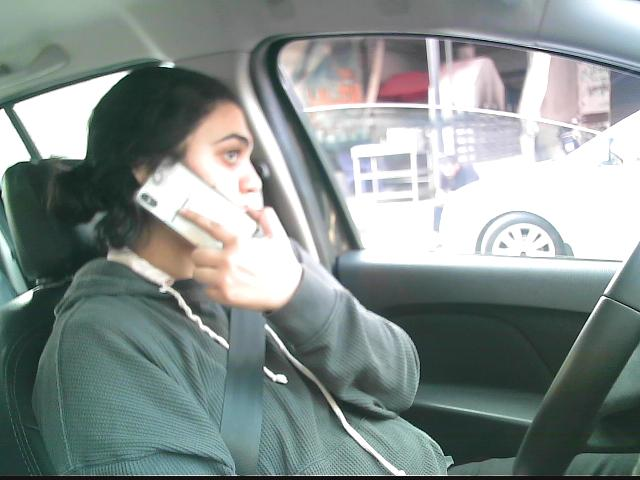PhoneUse: (133, 153, 261, 264)
